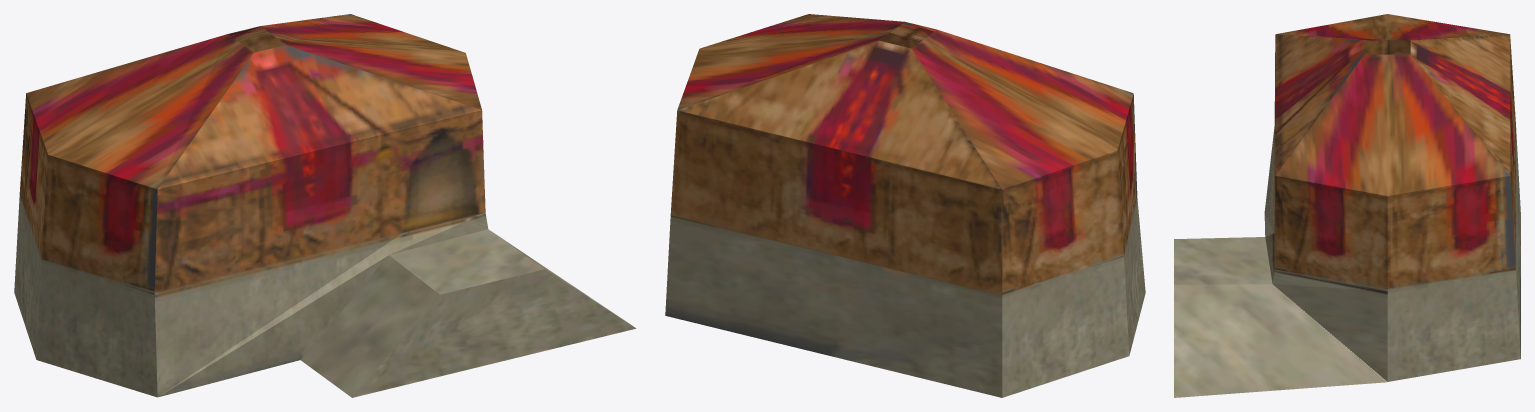
File: ply_tato_idesigner_tent_s01_r0_mesh_l3.fbx
The picture shows the model from 3 angles, left to right: view 1: azimuth 30°, elevation 25°; view 2: azimuth 150°, elevation 25°; view 3: azimuth 270°, elevation 25°; orthographic projection. The views are drawn at different scales.
Visible parts, largest first — view 1: mesh_node; view 2: mesh_node; view 3: mesh_node.
Boxes of the visible parts, x1,y1,x2,y2 form: mesh_node: (14,14,636,397); mesh_node: (665,14,1145,397); mesh_node: (1174,14,1520,397).
Bounding box in the file's own units: 17.22 × 9.13 × 12.03.
Materials: 1 (1 with a texture image).
